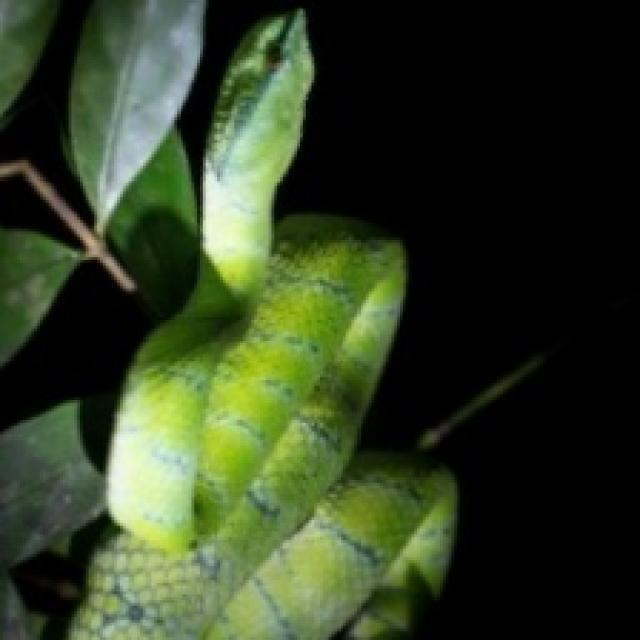north ph temple pitviper: (69, 9, 454, 637)
